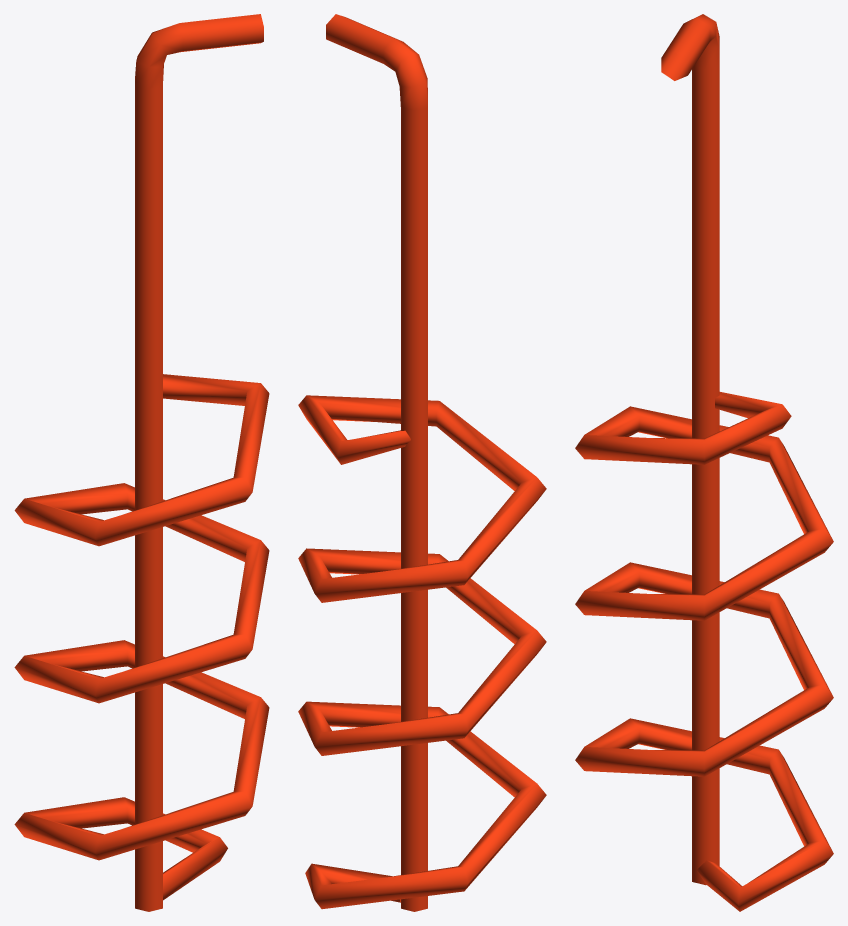
The model's file is PlaygroundSet_Pole.fbx.
3 renders of one model, left to right at view 1: azimuth 30°, elevation 25°; view 2: azimuth 150°, elevation 25°; view 3: azimuth 270°, elevation 25°, orthographic. The views are drawn at different scales.
Parts seen in each view (by area): view 1: PlaygroundSet_Pole; view 2: PlaygroundSet_Pole; view 3: PlaygroundSet_Pole.
Part boxes in pixels (x1=…): PlaygroundSet_Pole: x1=14, y1=14, x2=269, y2=911; PlaygroundSet_Pole: x1=298, y1=14, x2=546, y2=911; PlaygroundSet_Pole: x1=575, y1=14, x2=833, y2=911.
Size of the model in its own units: 52.46 by 205 by 55.16.
